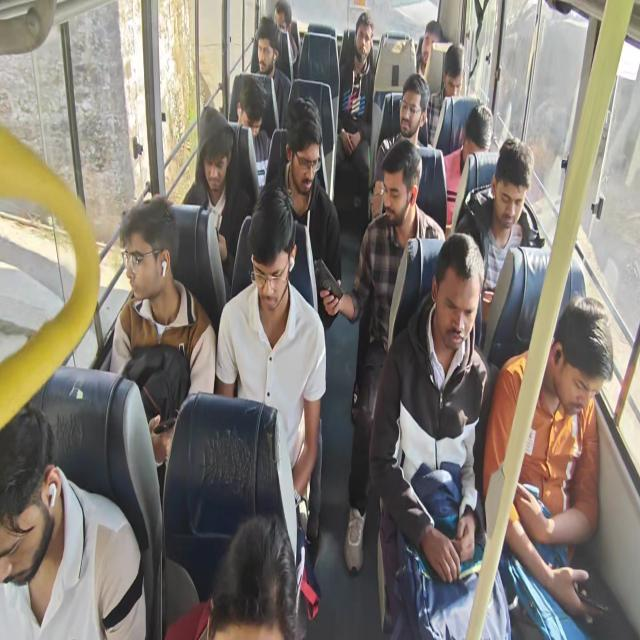person: (107, 9, 610, 636), (368, 232, 512, 638), (319, 139, 447, 573), (482, 295, 614, 626), (215, 181, 326, 541), (263, 94, 342, 544), (0, 403, 147, 639), (110, 195, 216, 510), (164, 512, 301, 639), (454, 137, 536, 347), (182, 106, 253, 299), (369, 72, 432, 222), (334, 11, 376, 221), (443, 103, 493, 229), (250, 16, 292, 139), (236, 78, 271, 191), (426, 44, 464, 146), (273, 0, 298, 82), (416, 20, 444, 77)
